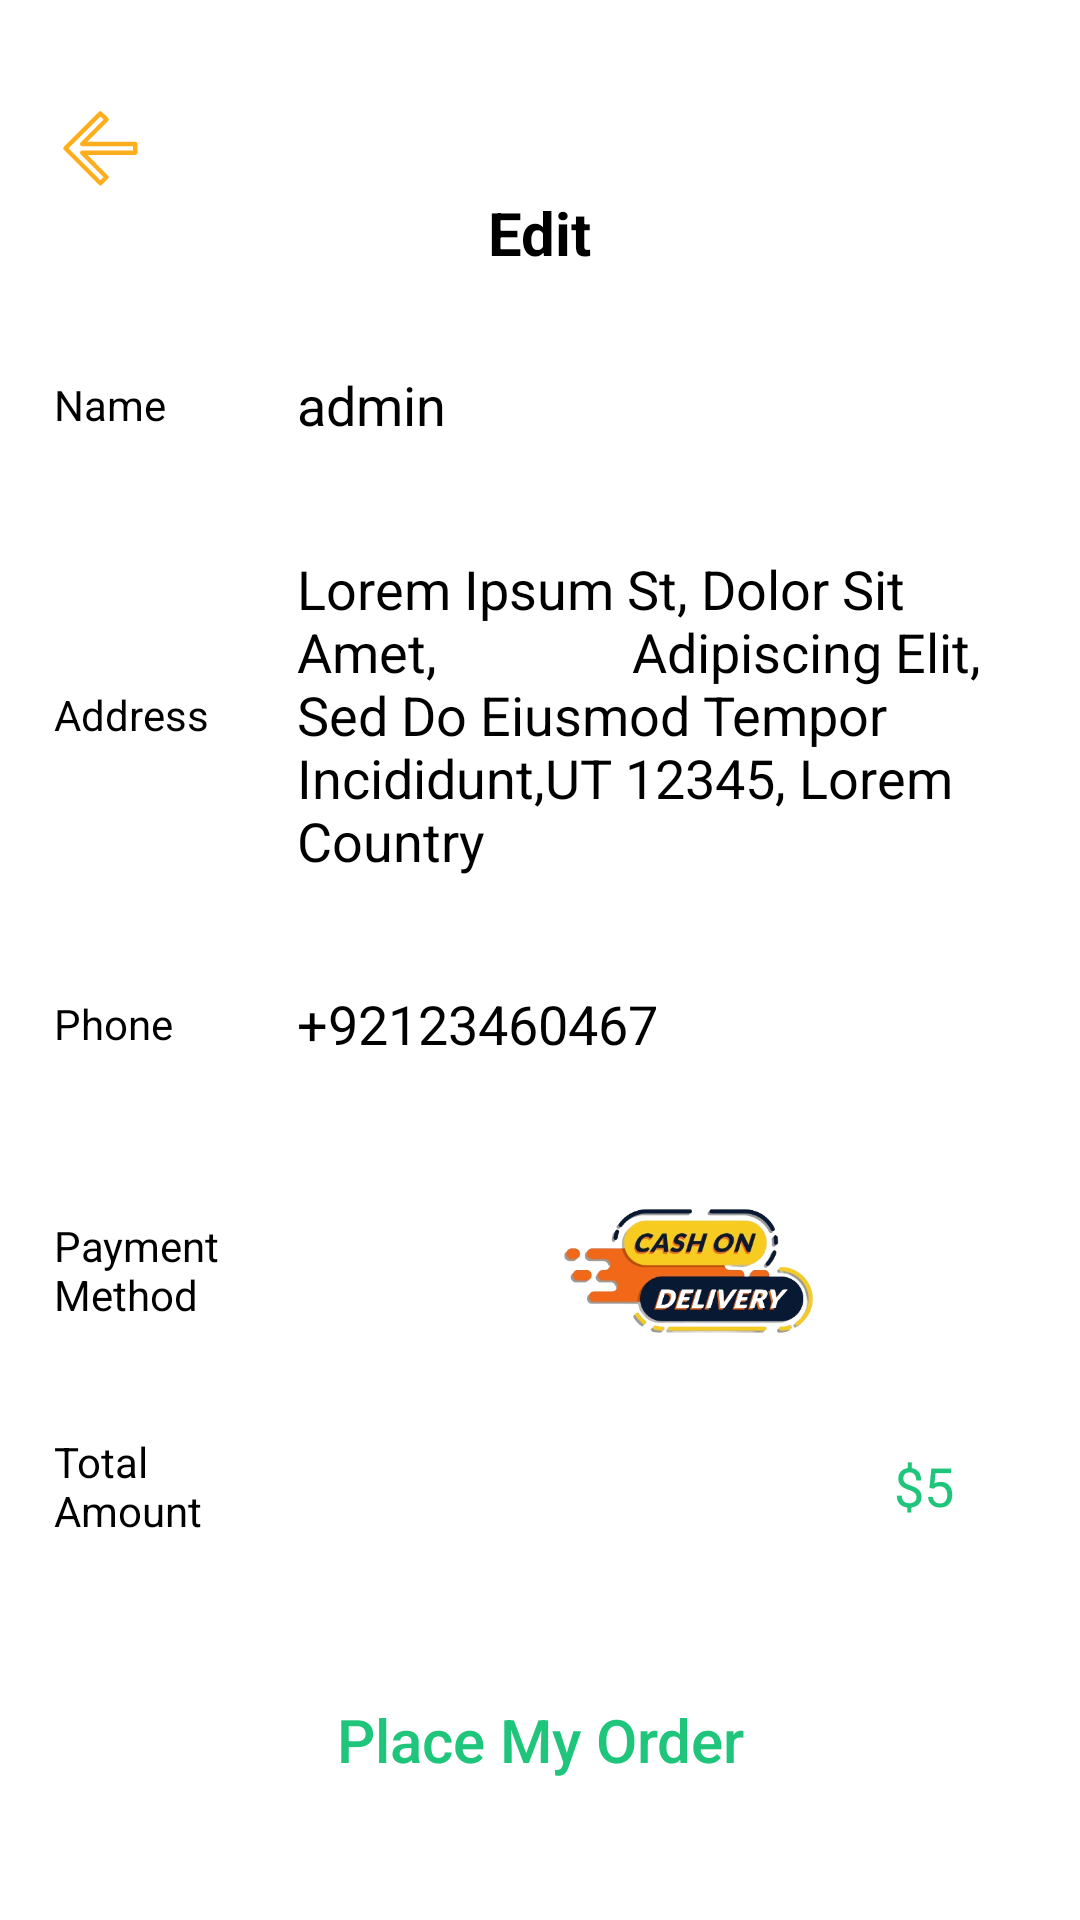

Point at icon controls on the screen. Image size 1080*1920, points as [x,y].
arrow back: [100,148]
